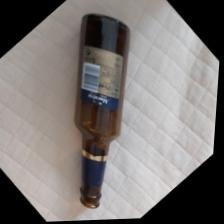glass: (1, 0, 175, 221)
